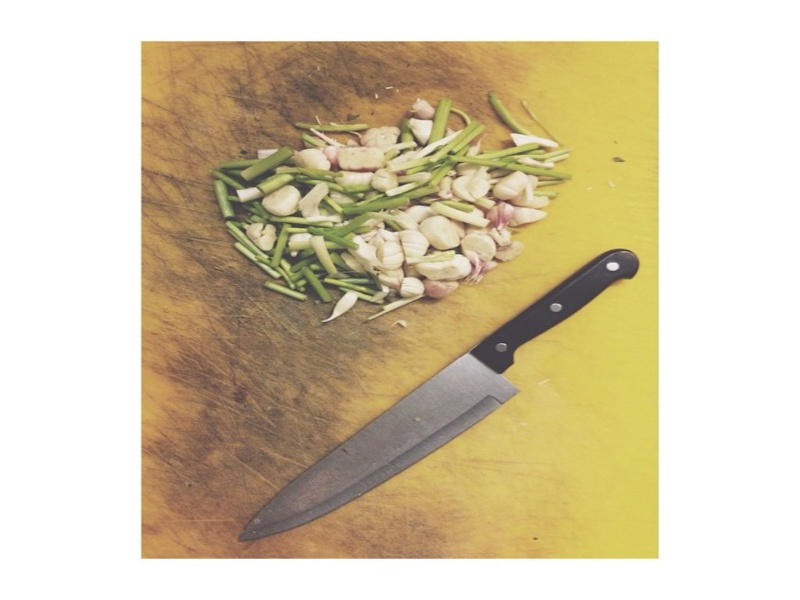knife: (237, 247, 639, 545)
